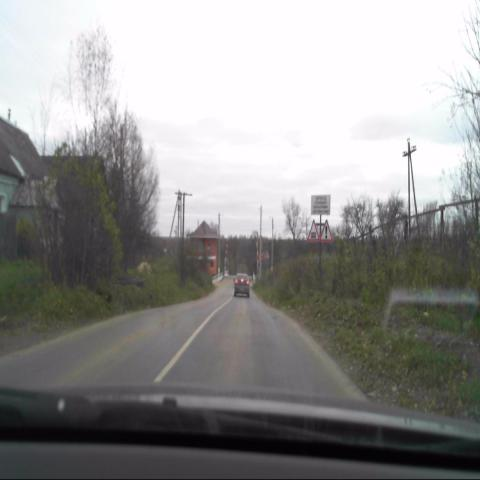1_33: (320, 218, 332, 240)
